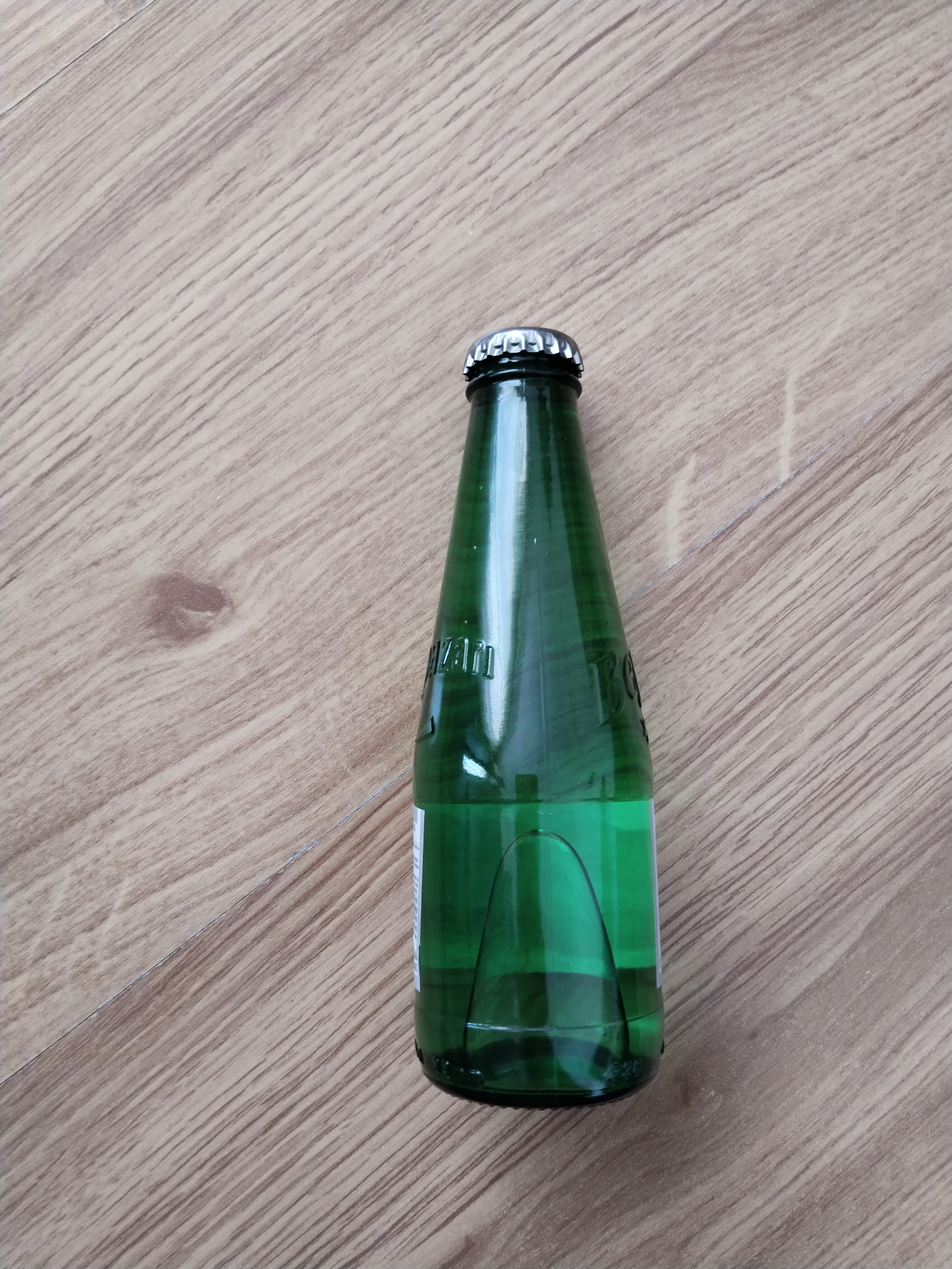beypazari_maden_suyu: (412, 327, 661, 1108)
